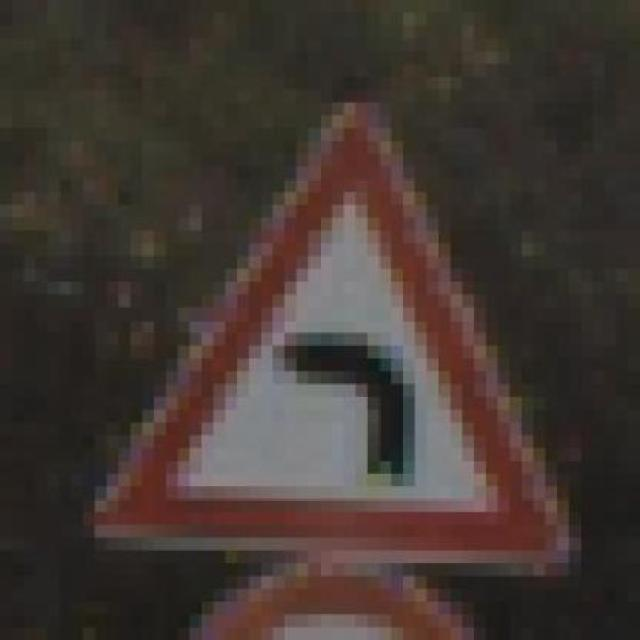Dangerous Left Curve Ahead: (82, 102, 593, 576)
